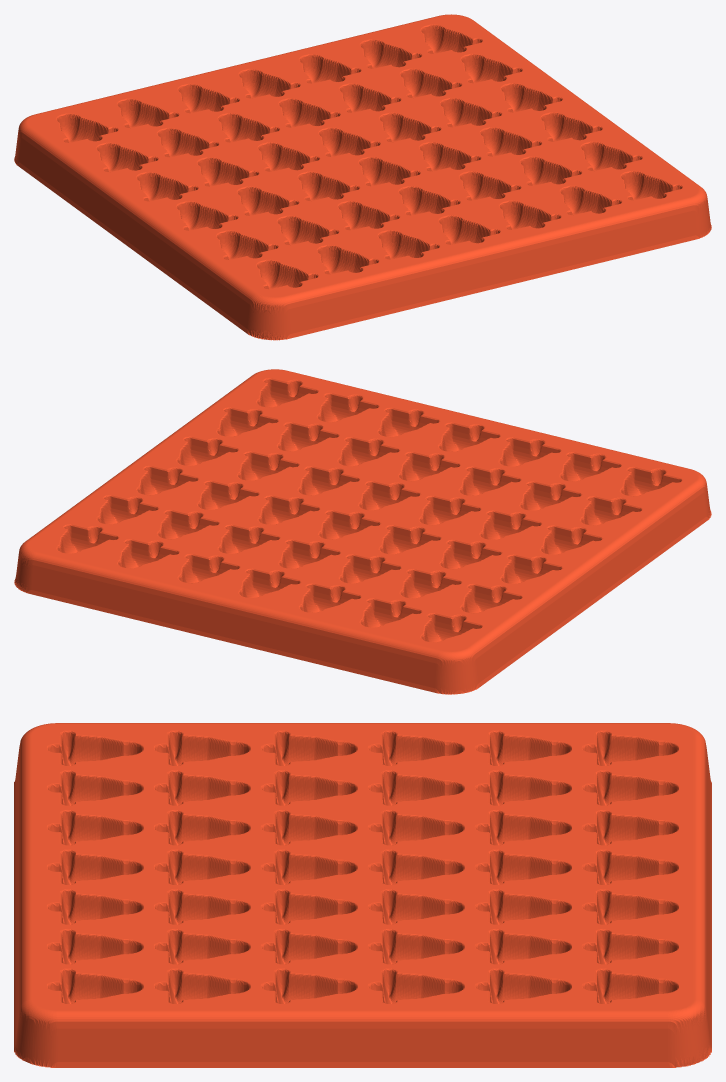
Rendered from mold.glb.
The picture shows the model from 3 angles, top to bottom: view 1: azimuth 30°, elevation 25°; view 2: azimuth 150°, elevation 25°; view 3: azimuth 270°, elevation 25°; orthographic projection. The views are drawn at different scales.
Visible parts, largest first — view 1: geometry_0; view 2: geometry_0; view 3: geometry_0.
Boxes of the visible parts, bbox=[...] form: geometry_0: bbox=[14, 14, 711, 340]; geometry_0: bbox=[14, 369, 711, 694]; geometry_0: bbox=[14, 723, 711, 1067].
Bounding box in the file's own units: 0.1467 × 0.0114 × 0.1437.
